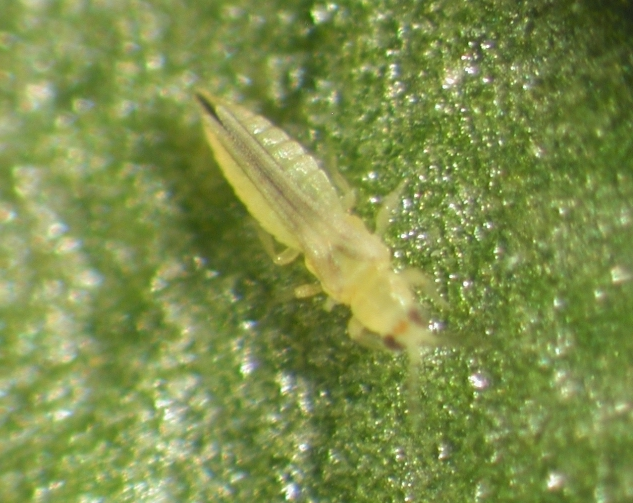Thrips: (179, 74, 467, 381)
